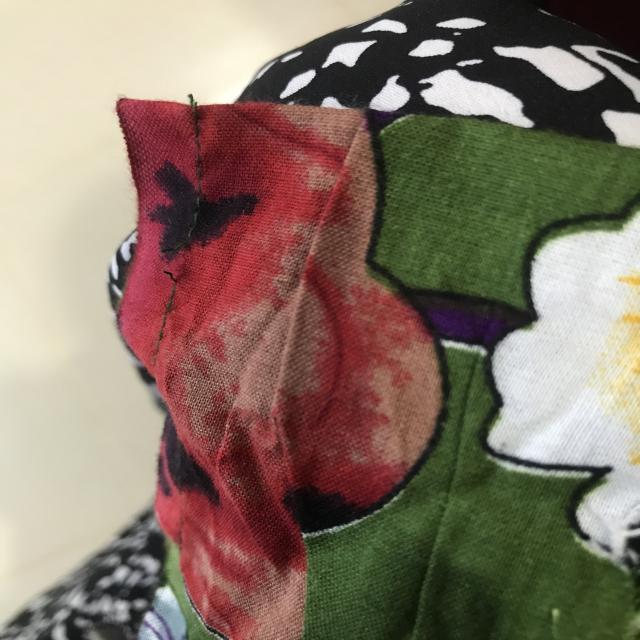broken: (152, 226, 204, 294)
